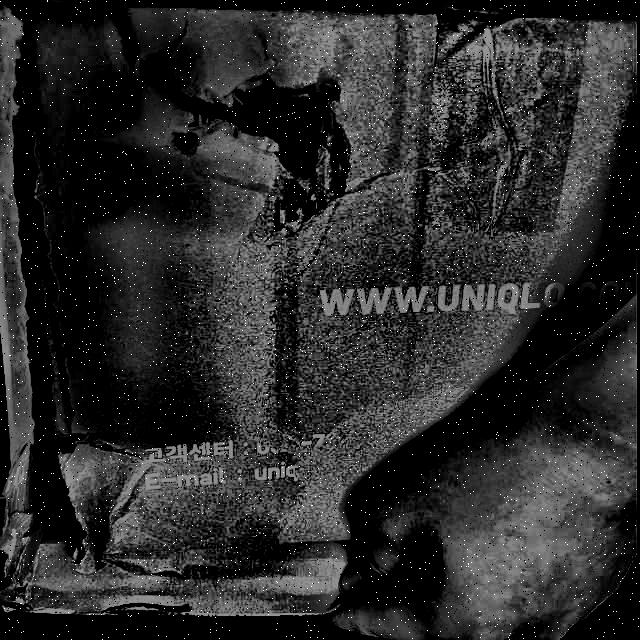box: (1, 1, 640, 620)
hole: (151, 78, 353, 185)
